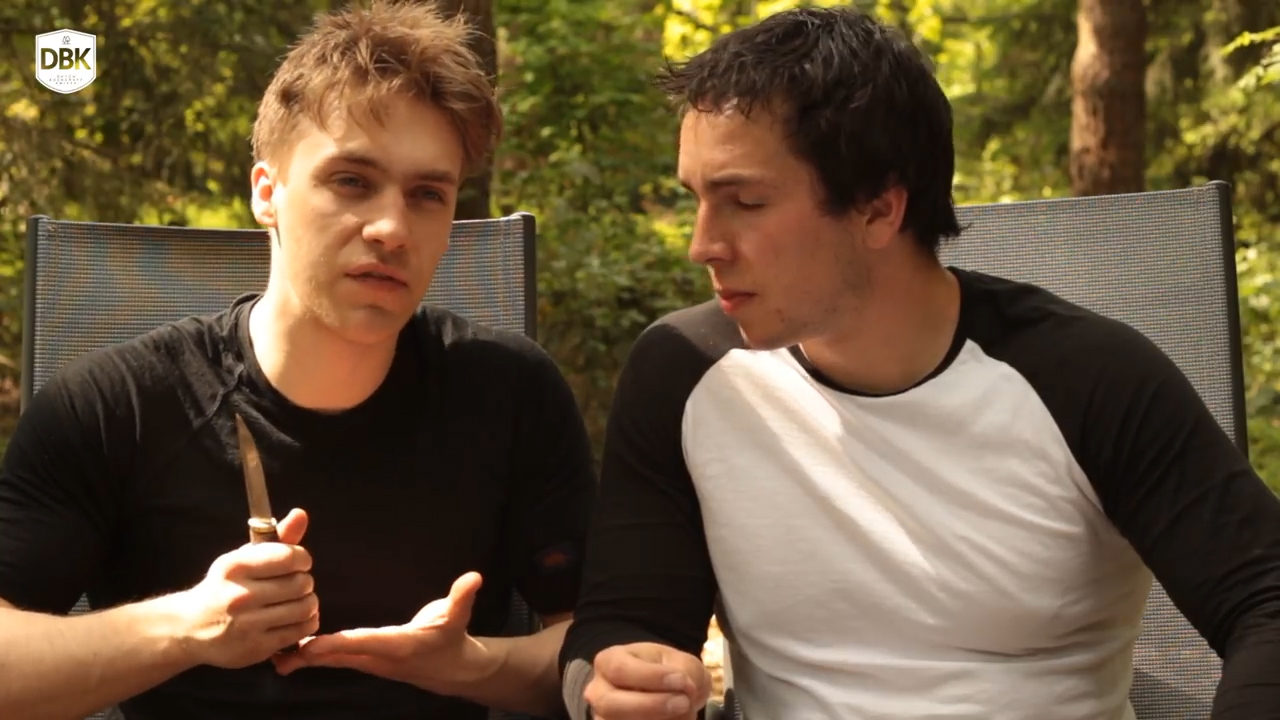knife: (223, 396, 318, 586)
